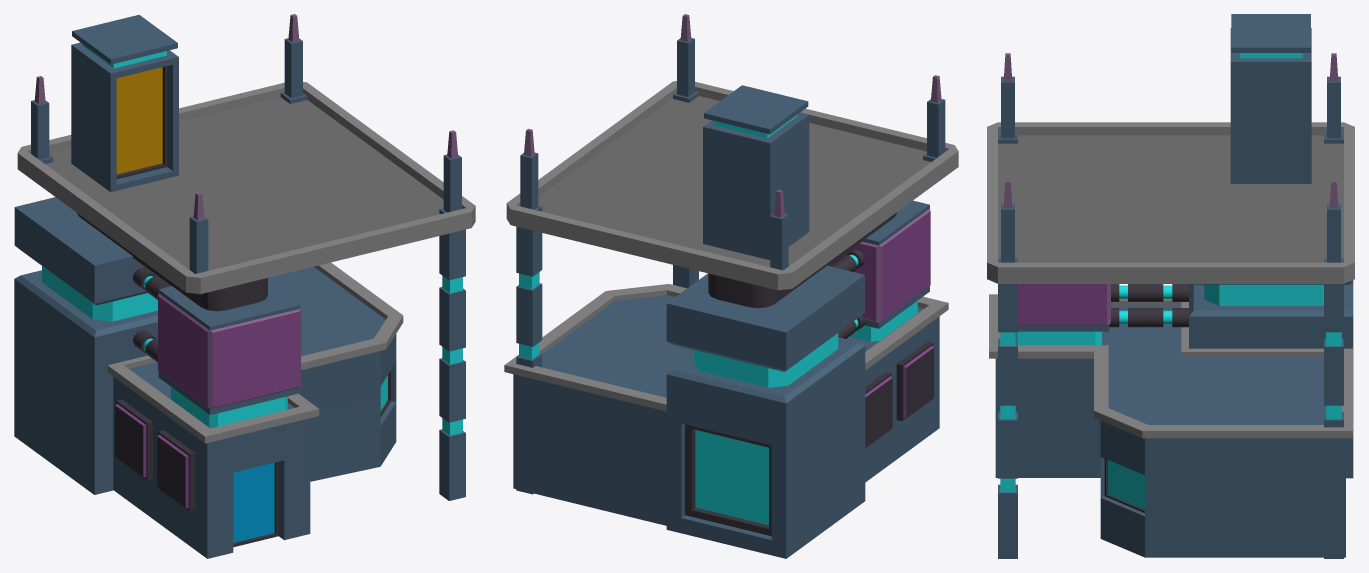
Rendered from House6.fbx.
3 views of the same model, side by side, from view 1: azimuth 30°, elevation 25°; view 2: azimuth 150°, elevation 25°; view 3: azimuth 270°, elevation 25° (orthographic). The views are drawn at different scales.
Parts seen in each view (by area): view 1: House_R_6; view 2: House_R_6; view 3: House_R_6.
Part boxes in pixels (bbox=[...]): House_R_6: bbox=[14, 14, 475, 558]; House_R_6: bbox=[504, 14, 958, 558]; House_R_6: bbox=[987, 14, 1354, 558].
Bounding box in the file's own units: 866 × 1181 × 928.
